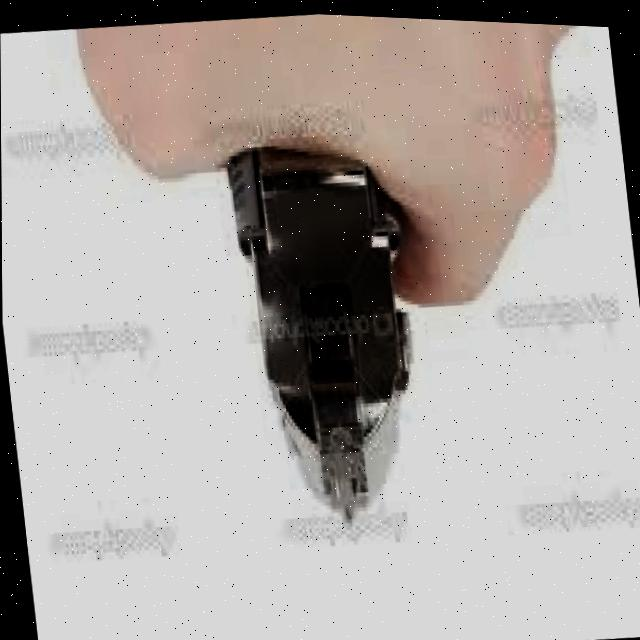pistol: (222, 125, 436, 537)
